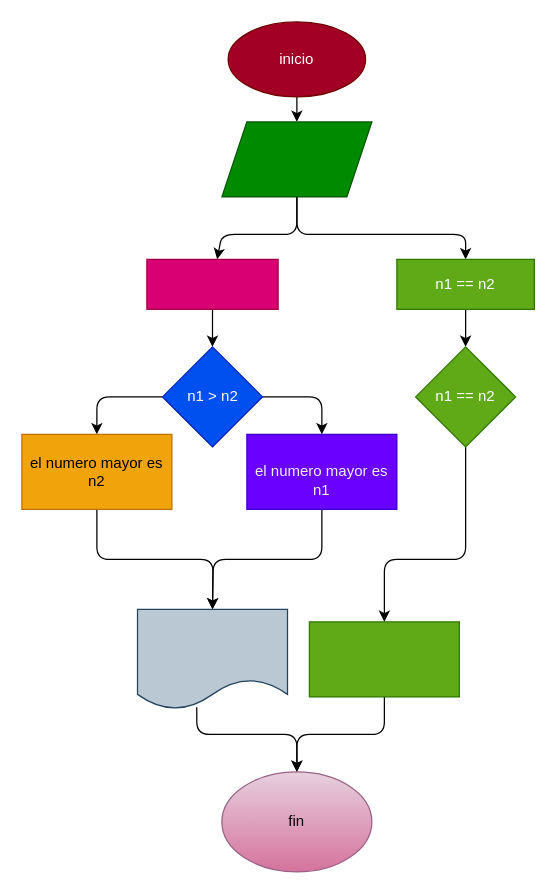
The diagram is 556 pixels wide and 894 high, and some of its shapes have lost their labels. Here are the shapes that lost their labels. From the top down, the box of each, then its label:
(221, 121, 372, 197): n1, n2
(146, 258, 278, 309): numero == n1>n2
(136, 608, 288, 709): el numero mayor es
(308, 621, 459, 697): los numeros son iguales
